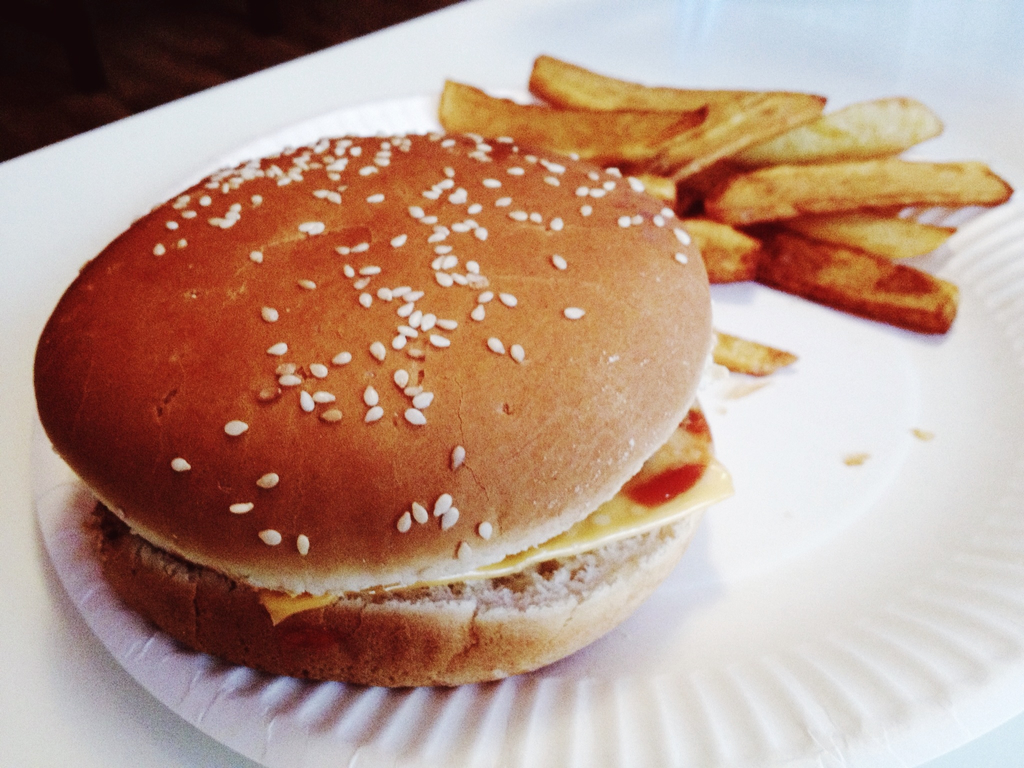French fries: (421, 62, 1012, 311)
